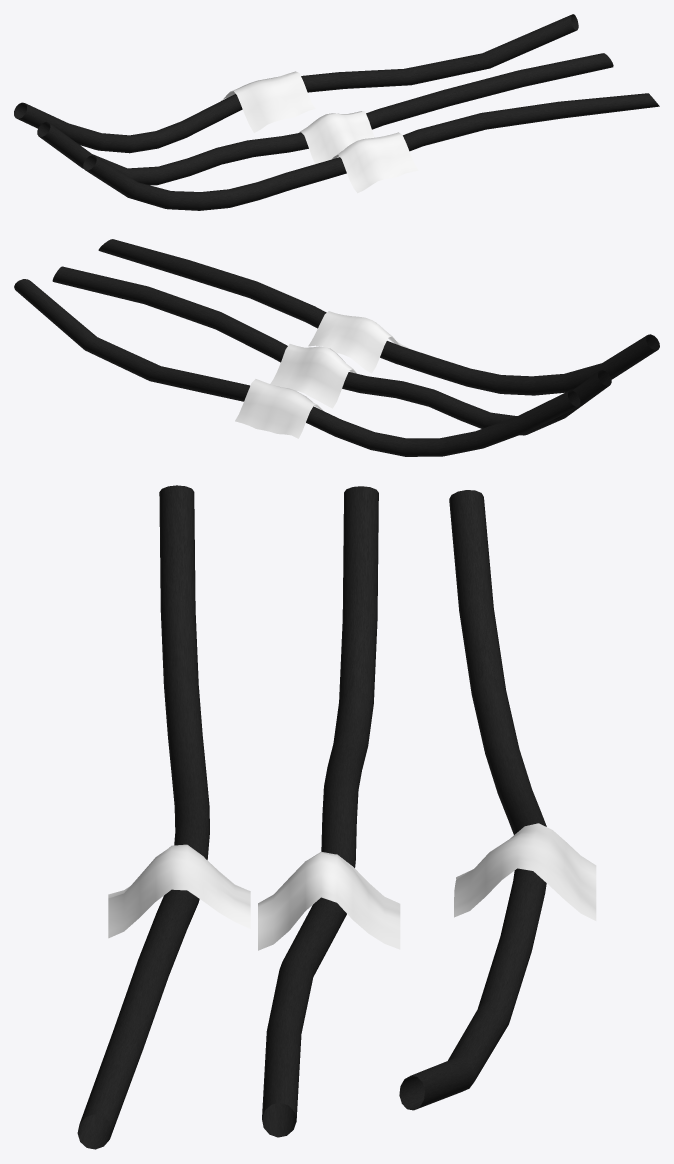
The model's file is PIPES.fbx.
The picture shows the model from 3 angles, top to bottom: view 1: azimuth 30°, elevation 25°; view 2: azimuth 150°, elevation 25°; view 3: azimuth 270°, elevation 25°; orthographic projection. The views are drawn at different scales.
Parts seen in each view (by area): view 1: BézierCurve.001, BézierCurve.002, PIPES, Plane.002, Plane.001, Plane; view 2: BézierCurve.002, BézierCurve.001, PIPES, Plane, Plane.002, Plane.001; view 3: BézierCurve.001, BézierCurve.002, PIPES, Plane, Plane.002, Plane.001.
Part boxes in pixels (<box>): BézierCurve.001: <box>83,93,659,210</box>; BézierCurve.002: <box>14,14,578,153</box>; PIPES: <box>37,53,613,185</box>; Plane.002: <box>221,71,315,132</box>; Plane.001: <box>332,132,418,193</box>; Plane: <box>299,111,374,164</box>; BézierCurve.002: <box>14,279,580,456</box>; BézierCurve.001: <box>98,239,659,395</box>; PIPES: <box>52,266,611,435</box>; Plane: <box>270,344,356,408</box>; Plane.002: <box>235,379,323,438</box>; Plane.001: <box>308,311,408,373</box>; BézierCurve.001: <box>77,485,209,1149</box>; BézierCurve.002: <box>399,490,546,1110</box>; PIPES: <box>262,486,378,1137</box>; Plane: <box>258,851,400,950</box>; Plane.002: <box>454,823,596,920</box>; Plane.001: <box>108,844,250,938</box>.
Size of the model in its own units: 147 by 23 by 59.55.
Materials: 2 (2 with a texture image).
